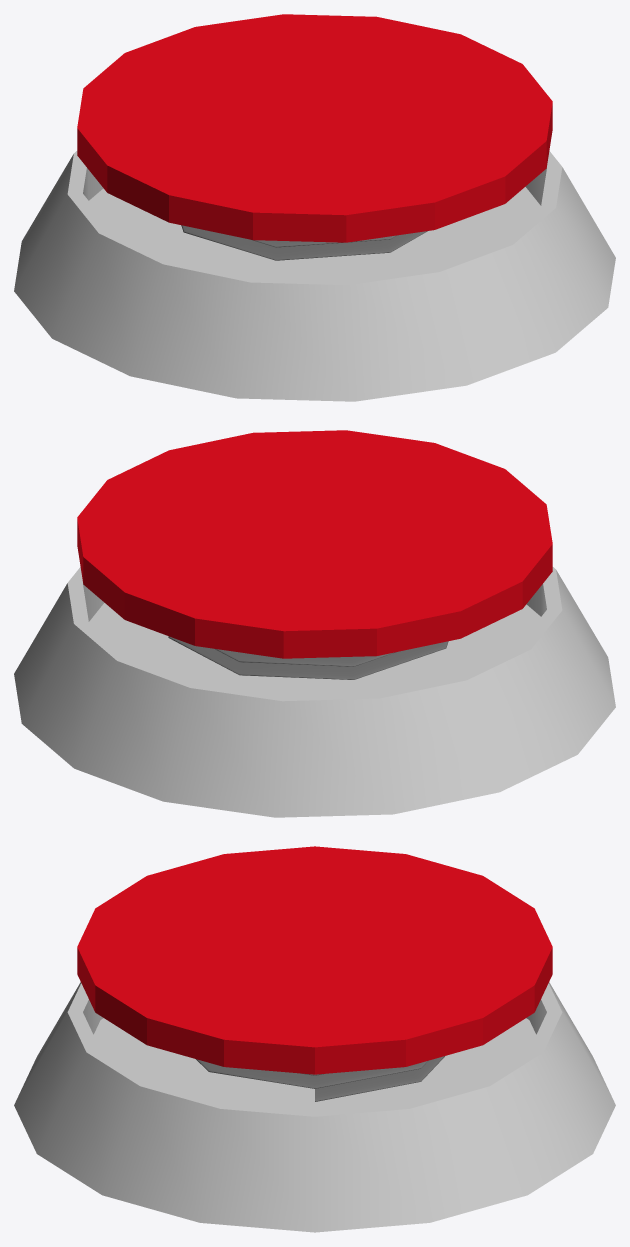
Rendered from red_button.glb.
The picture shows the model from 3 angles, top to bottom: view 1: azimuth 30°, elevation 25°; view 2: azimuth 150°, elevation 25°; view 3: azimuth 270°, elevation 25°; orthographic projection.
Parts seen in each view (by area): view 1: Cylinder, Cylinder.001, Circle; view 2: Cylinder, Cylinder.001, Circle; view 3: Cylinder, Cylinder.001, Circle.
Boxes of the visible parts, left/top/right/bottom form: Cylinder: left=14, top=151, right=615, bottom=401; Cylinder.001: left=77, top=14, right=552, bottom=242; Circle: left=181, top=225, right=427, bottom=260; Cylinder: left=14, top=567, right=615, bottom=817; Cylinder.001: left=77, top=430, right=552, bottom=658; Circle: left=168, top=636, right=448, bottom=679; Cylinder: left=14, top=982, right=615, bottom=1232; Cylinder.001: left=77, top=846, right=552, bottom=1074; Circle: left=196, top=1056, right=444, bottom=1101.
Size of the model in its own units: 0.2 by 0.0581 by 0.2.
